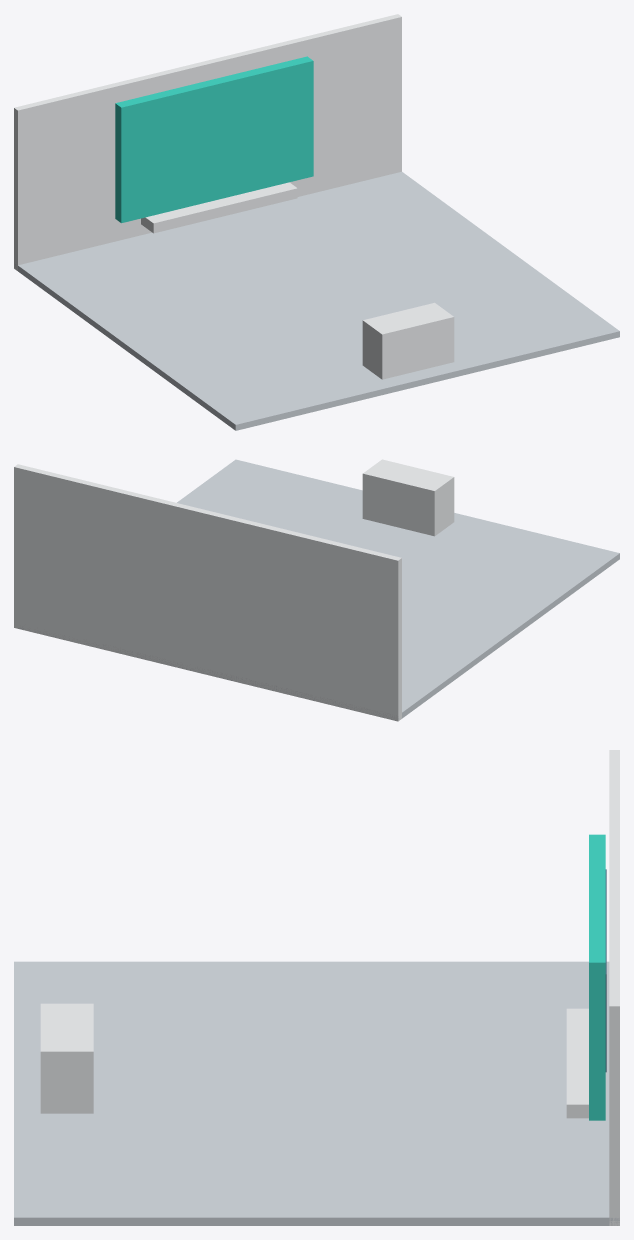
3 views of the same model, one above another, from view 1: azimuth 30°, elevation 25°; view 2: azimuth 150°, elevation 25°; view 3: azimuth 270°, elevation 25° (orthographic). The views are drawn at different scales.
Parts seen in each view (by area): view 1: Exhibition Booth Concept; view 2: Exhibition Booth Concept; view 3: Exhibition Booth Concept.
Part boxes in pixels (x1,y1,x2,y2): Exhibition Booth Concept: (14,14,619,430); Exhibition Booth Concept: (14,459,619,721); Exhibition Booth Concept: (14,750,619,1225).
Size of the model in its own units: 8 by 3.2 by 8.
